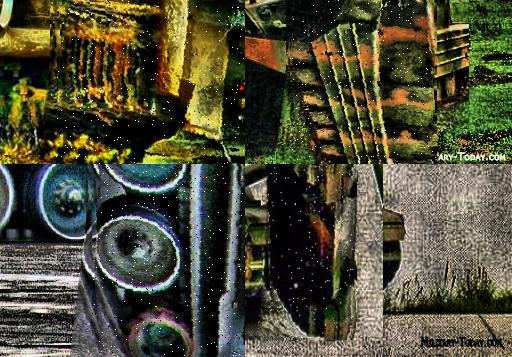tanks: (59, 1, 246, 165), (94, 165, 246, 357), (291, 1, 437, 165), (270, 166, 358, 340), (372, 165, 384, 203)
